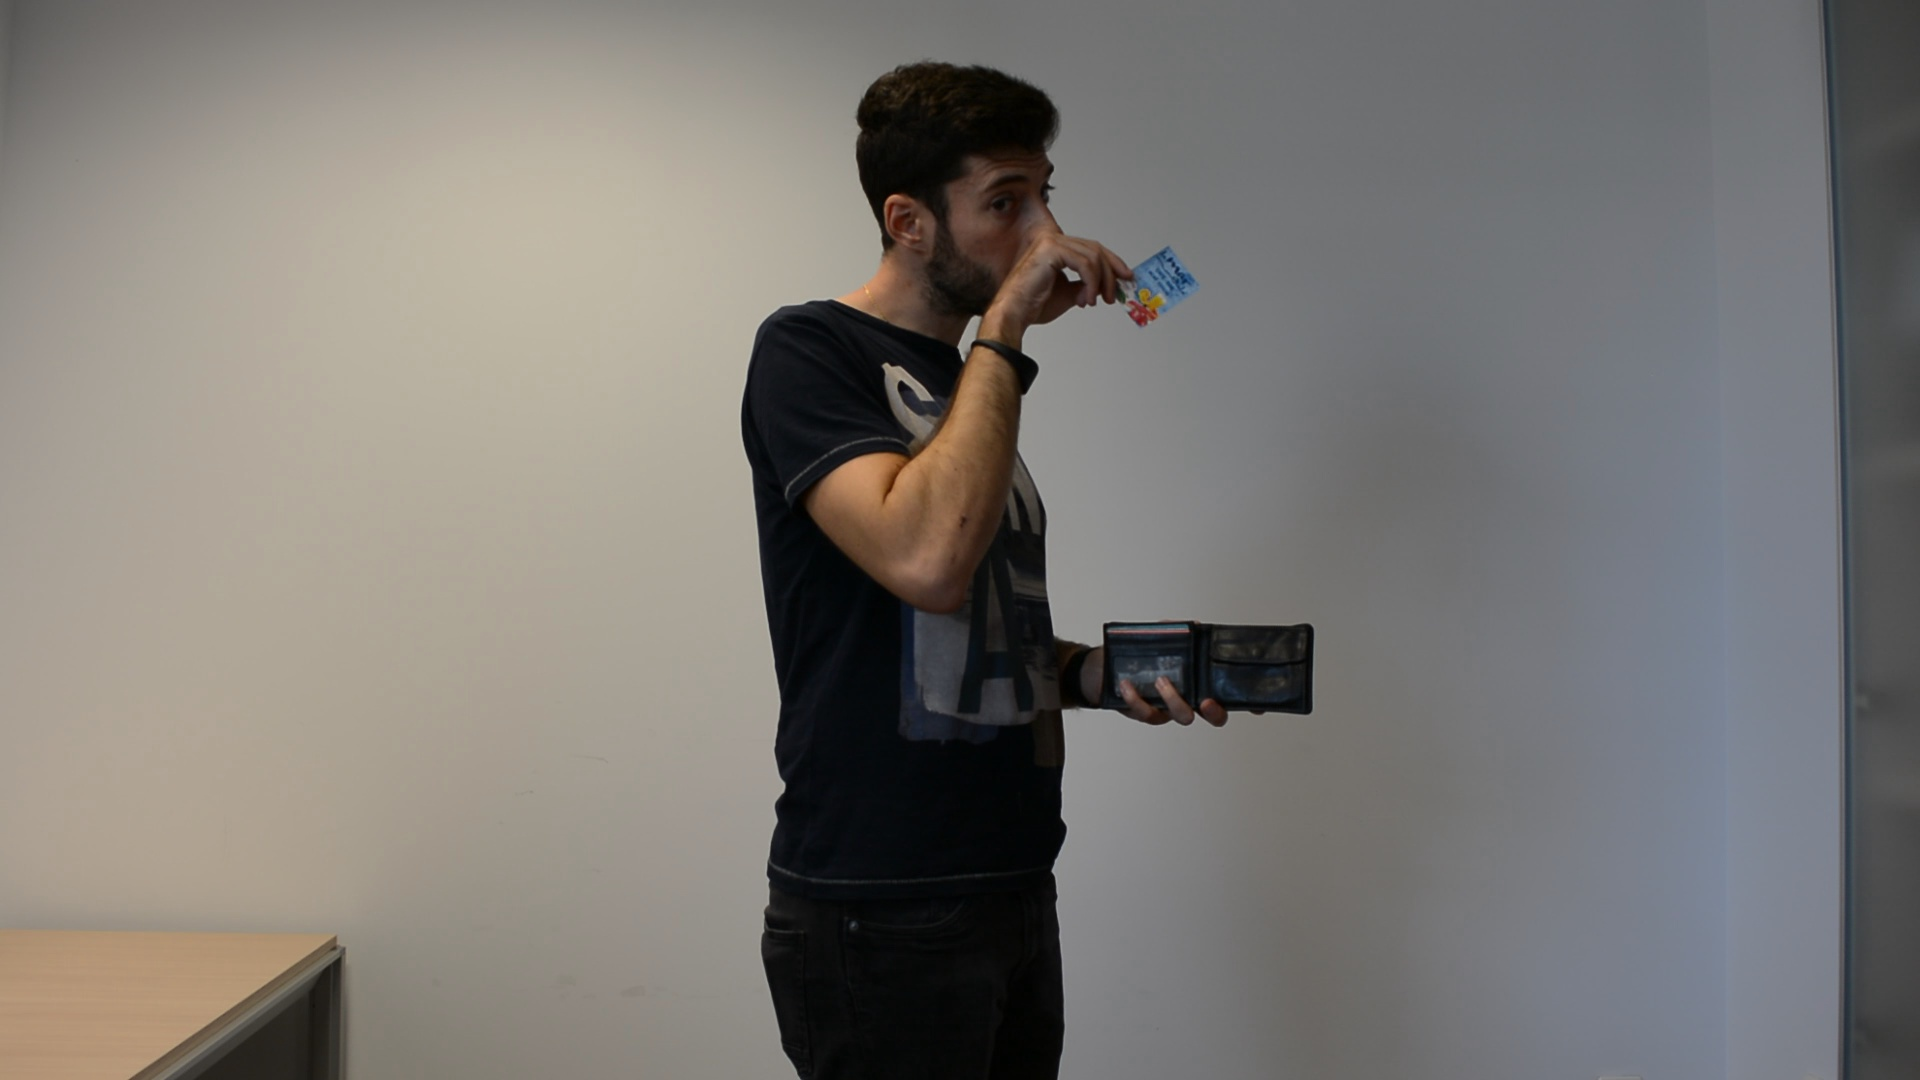monedero: (1097, 618, 1316, 717)
tarjeta: (1110, 245, 1208, 328)
